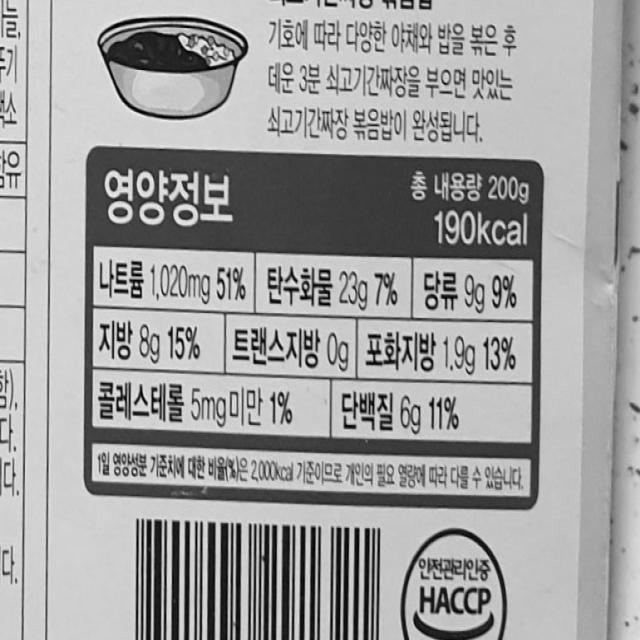Nutrition Label: (73, 137, 559, 517)
